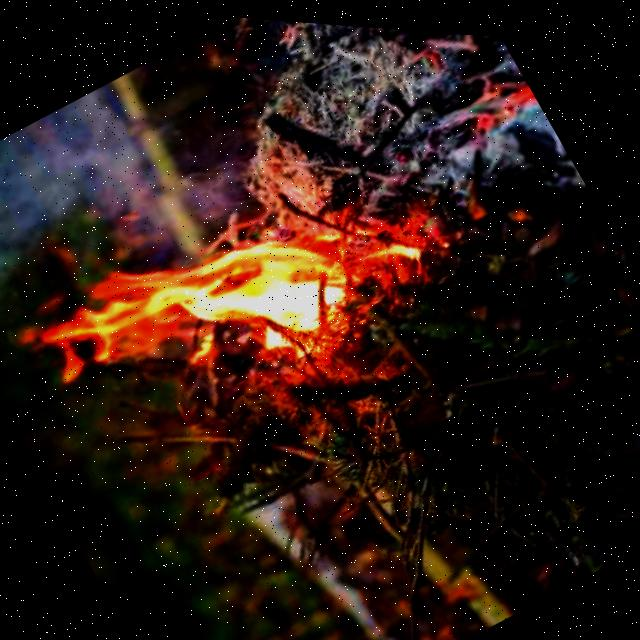Fire: (0, 110, 433, 498)
